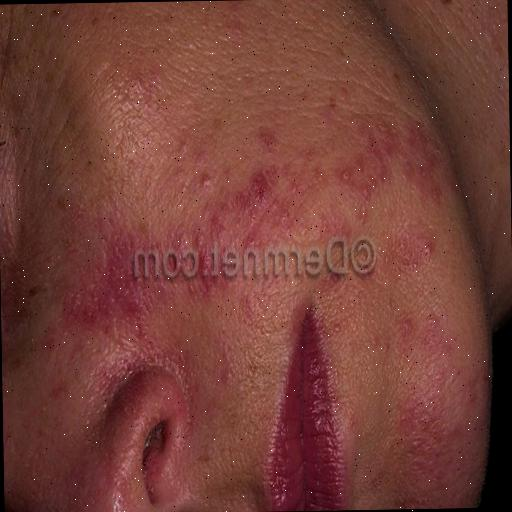Skin_Lesion: (278, 297, 340, 465), (242, 166, 294, 233), (102, 247, 146, 322), (406, 407, 438, 487), (362, 125, 387, 196), (396, 233, 434, 276), (403, 141, 432, 177), (190, 273, 217, 310), (191, 160, 217, 198), (214, 348, 232, 391), (76, 289, 90, 332), (336, 160, 354, 192), (324, 218, 346, 244), (259, 142, 272, 161), (436, 0, 456, 11)
